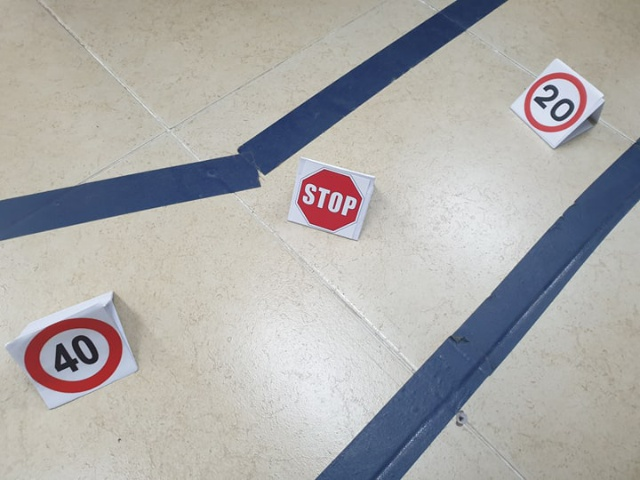Limit 20: (524, 74, 585, 131)
Limit 40: (24, 319, 125, 392)
Stop: (297, 167, 362, 234)
